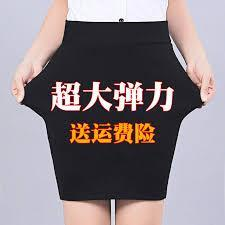skirt: (29, 16, 199, 224)
